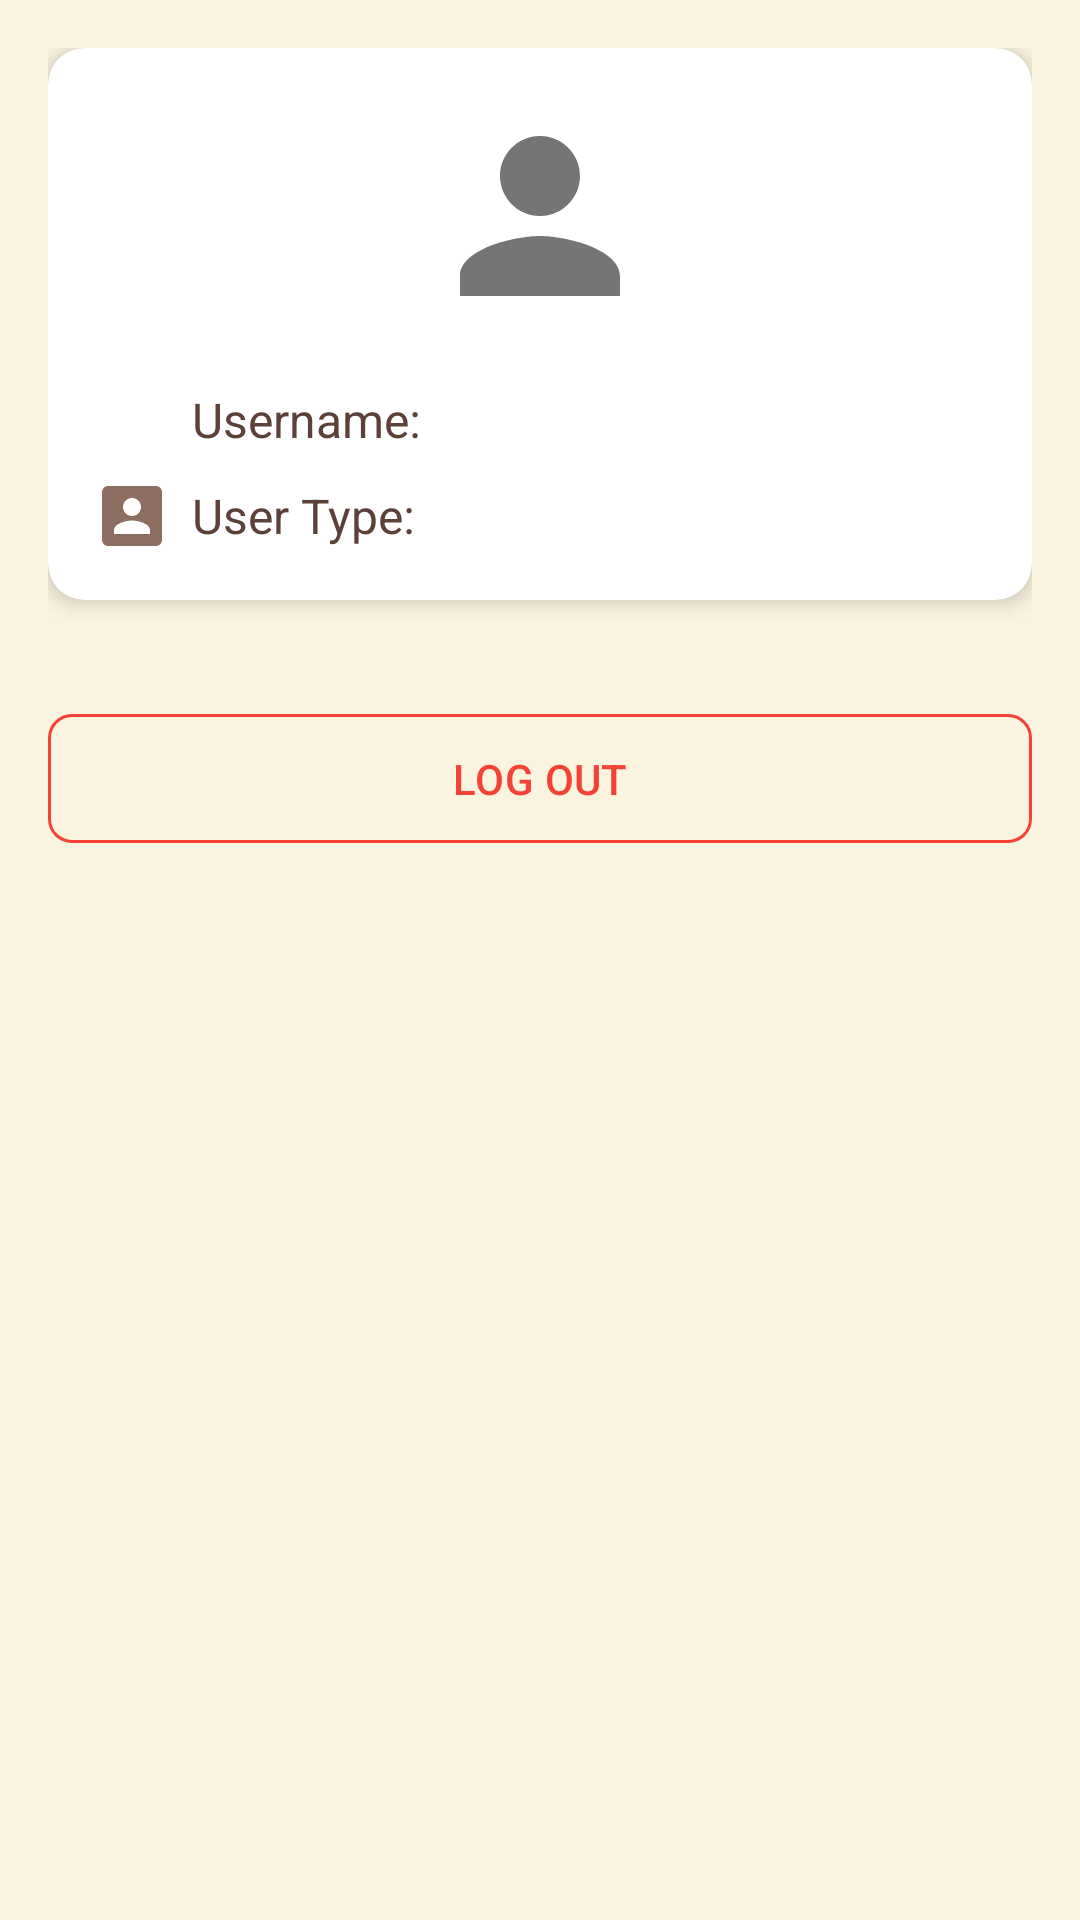

Icon bounding boxes for this 1080*1920 phone screenshot, format rect(x1, y1, x2, y2):
badge: rect(102, 486, 162, 546)
